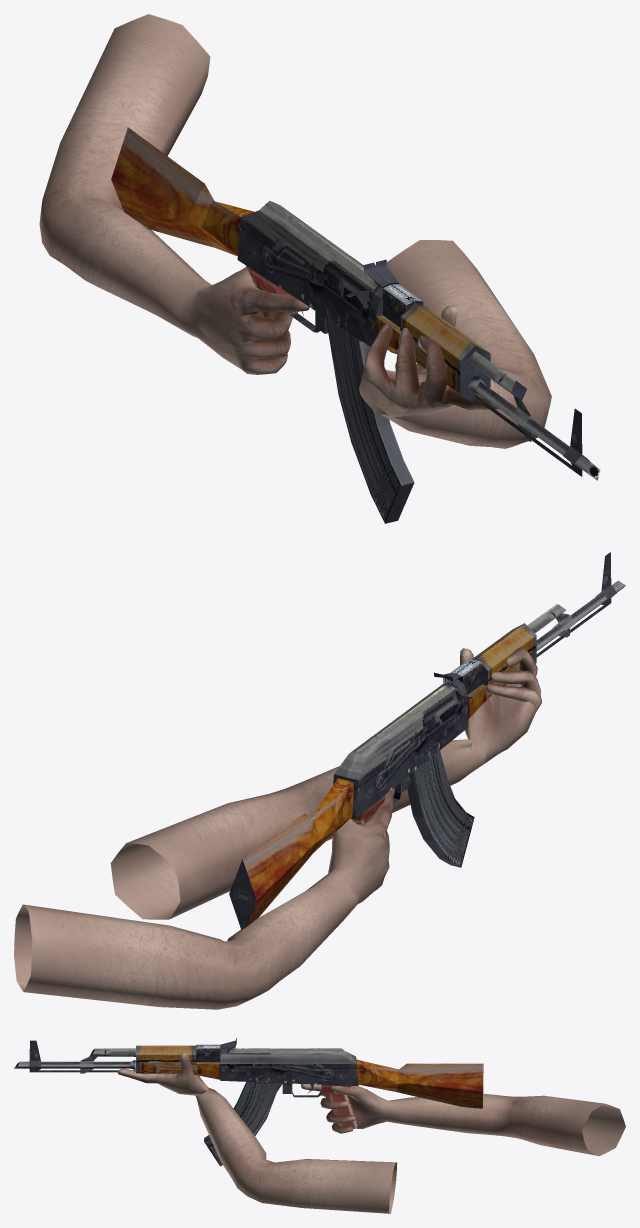
Rendered from AKM_Viewmodel.glb.
The picture shows the model from 3 angles, top to bottom: view 1: azimuth 30°, elevation 25°; view 2: azimuth 150°, elevation 25°; view 3: azimuth 270°, elevation 25°; orthographic projection. The views are drawn at different scales.
Parts seen in each view (by area): view 1: arms.001, AKM, AKM_Mag_Empty; view 2: arms.001, AKM, AKM_Mag_Empty; view 3: arms.001, AKM, AKM_Mag_Empty.
Part boxes in pixels (<box>): arms.001: <box>39,14,551,448</box>; AKM: <box>111,127,600,480</box>; AKM_Mag_Empty: <box>326,318,414,523</box>; arms.001: <box>14,647,541,1009</box>; AKM: <box>229,552,625,929</box>; AKM_Mag_Empty: <box>407,750,474,867</box>; arms.001: <box>117,1052,625,1213</box>; AKM: <box>14,1038,483,1128</box>; AKM_Mag_Empty: <box>204,1082,282,1166</box>.
Bounding box in the file's own units: 0.3853 × 0.2841 × 1.27.
2 materials, 2 textured.
